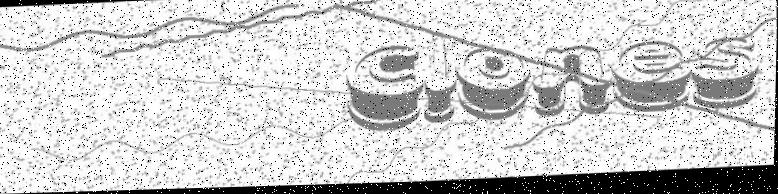c: (343, 45, 425, 136)
e: (609, 43, 692, 118)
l: (423, 32, 459, 127)
n: (532, 47, 610, 120)
o: (455, 47, 532, 125)
s: (689, 38, 760, 115)
